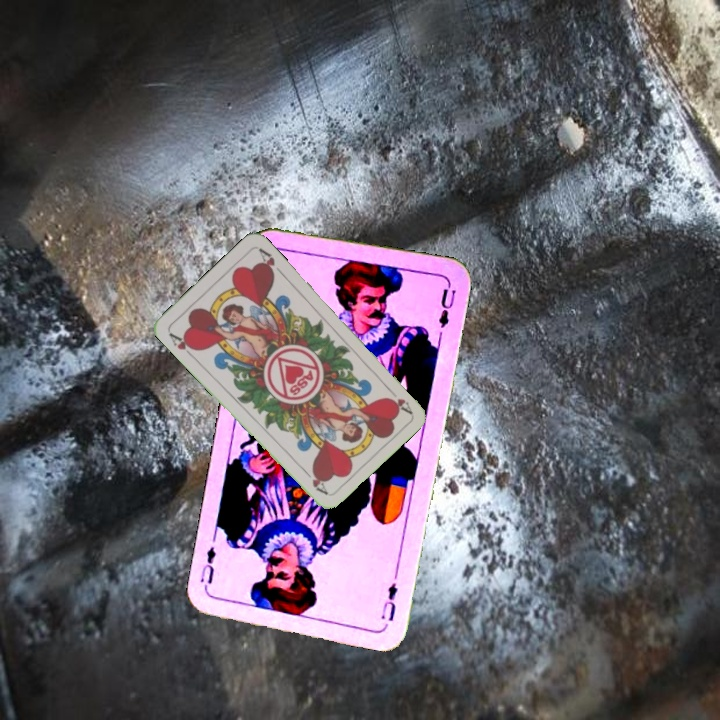EU: (377, 579, 400, 624)
HA: (165, 328, 199, 361), (382, 383, 414, 416)
